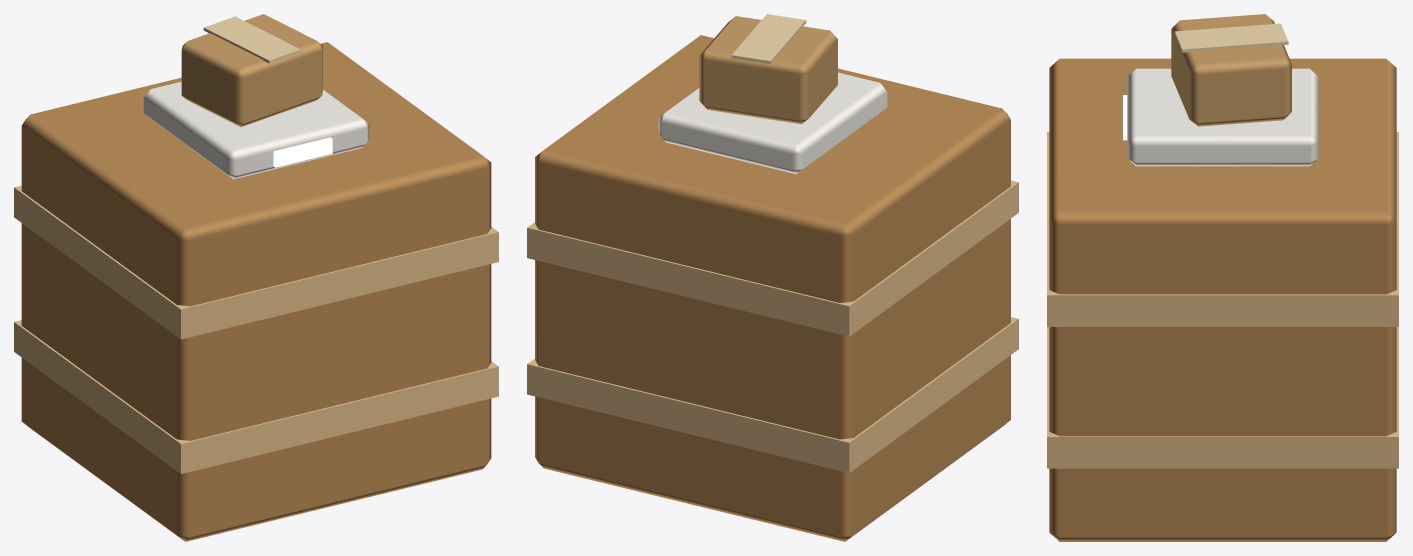
File: station_transport_ausstattung_2_0.glb
The picture shows the model from 3 angles, left to right: view 1: azimuth 30°, elevation 25°; view 2: azimuth 150°, elevation 25°; view 3: azimuth 270°, elevation 25°; orthographic projection. The views are drawn at different scales.
Parts seen in each view (by area): view 1: station_transport_ausstattung_2_0; view 2: station_transport_ausstattung_2_0; view 3: station_transport_ausstattung_2_0.
Part boxes in pixels (x1=…): station_transport_ausstattung_2_0: x1=14, y1=14, x2=498, y2=541; station_transport_ausstattung_2_0: x1=527, y1=14, x2=1018, y2=541; station_transport_ausstattung_2_0: x1=1047, y1=14, x2=1398, y2=541.
Bounding box in the file's own units: 0.445 × 0.545 × 0.405.
